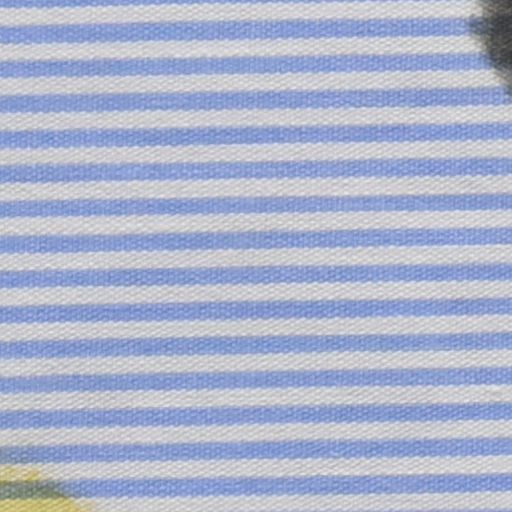defect: (1, 471, 103, 512), (478, 1, 512, 97)
